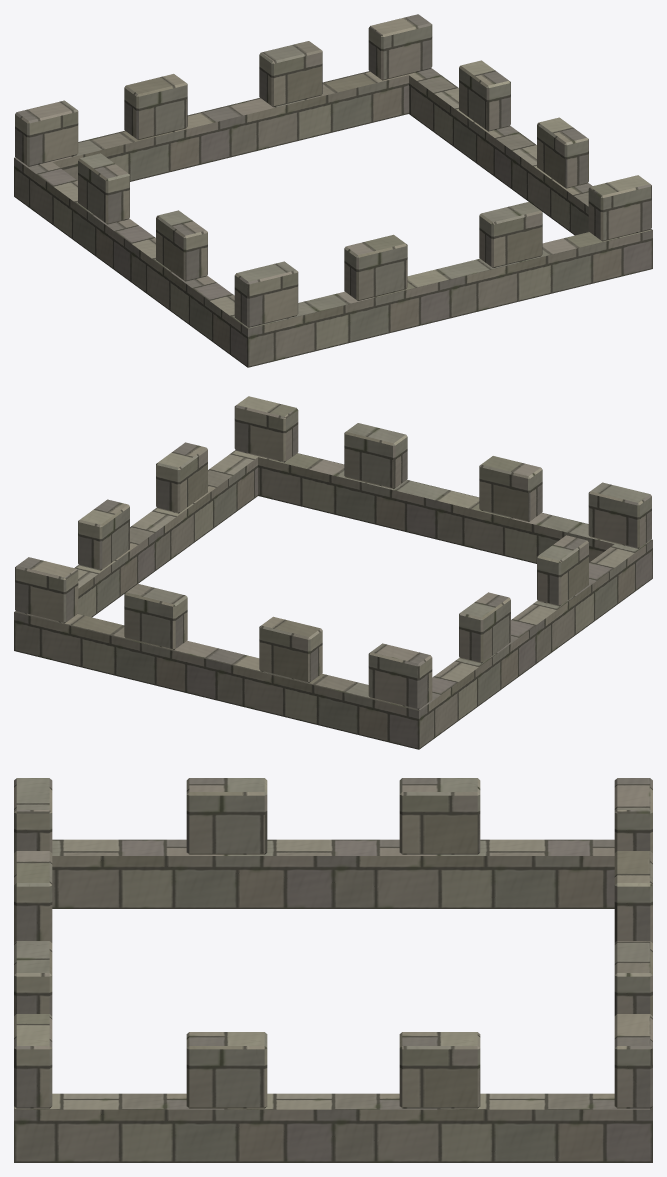
File: Furn_Battlement_Top.fbx
3 renders of one model, top to bottom at view 1: azimuth 30°, elevation 25°; view 2: azimuth 150°, elevation 25°; view 3: azimuth 270°, elevation 25°, orthographic. The views are drawn at different scales.
Parts seen in each view (by area): view 1: Furn_Battlement_Top_Mesh; view 2: Furn_Battlement_Top_Mesh; view 3: Furn_Battlement_Top_Mesh.
Part boxes in pixels (x1=…): Furn_Battlement_Top_Mesh: x1=14, y1=14, x2=652, y2=367; Furn_Battlement_Top_Mesh: x1=14, y1=396, x2=652, y2=749; Furn_Battlement_Top_Mesh: x1=14, y1=778, x2=652, y2=1162.
Bounding box in the file's own units: 6 × 1.2 × 6.
